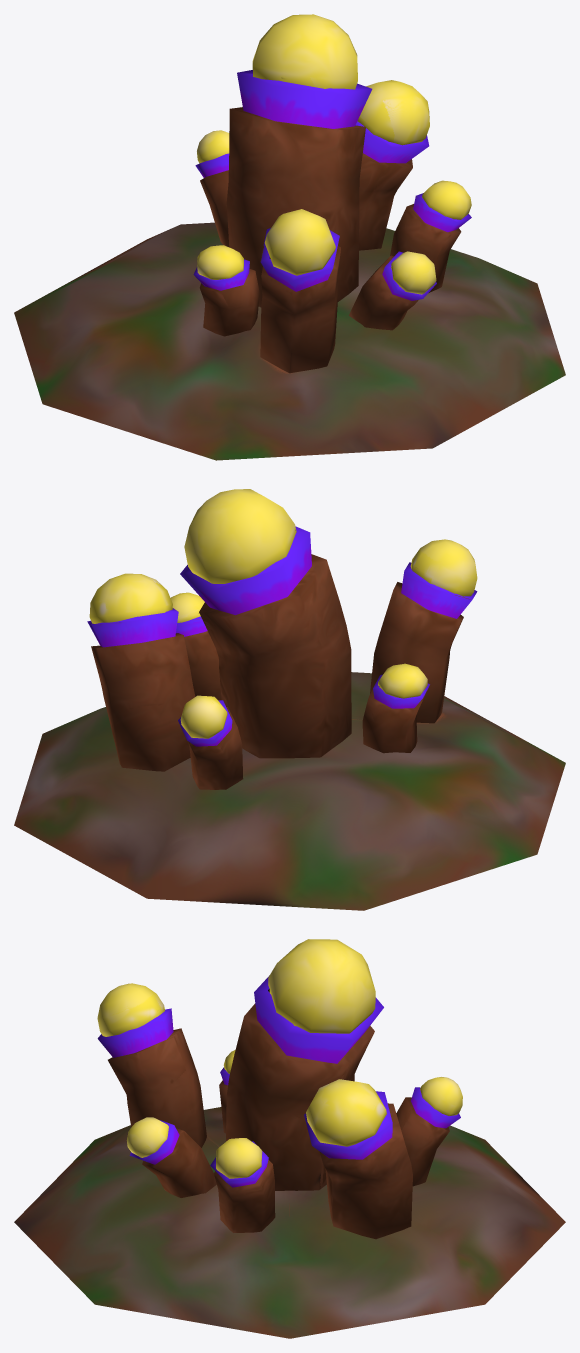
The model's file is Mashrooms1.fbx.
3 renders of one model, top to bottom at view 1: azimuth 30°, elevation 25°; view 2: azimuth 150°, elevation 25°; view 3: azimuth 270°, elevation 25°, orthographic. The views are drawn at different scales.
Parts seen in each view (by area): view 1: Cylinder.099; view 2: Cylinder.099; view 3: Cylinder.099.
Boxes of the visible parts, x1,y1,x2,y2 form: Cylinder.099: (14,14,565,460); Cylinder.099: (14,489,565,910); Cylinder.099: (14,939,565,1338).
Bounding box in the file's own units: 341 × 201 × 341.
